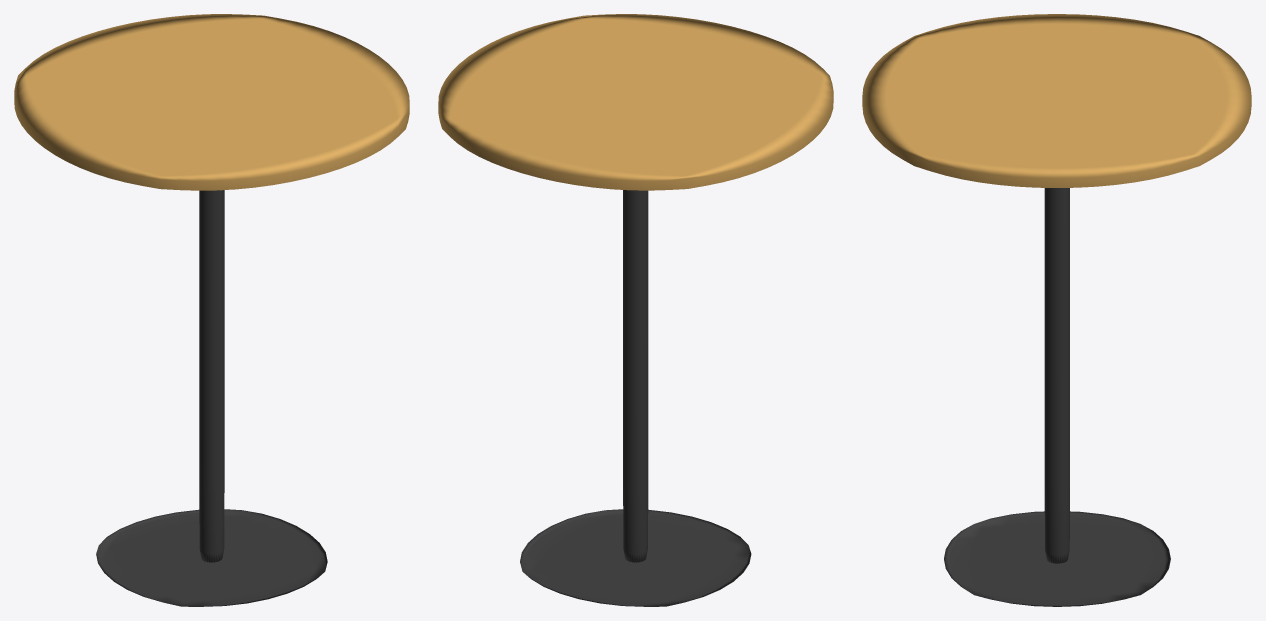
Rendered from Table.fbx.
3 renders of one model, left to right at view 1: azimuth 30°, elevation 25°; view 2: azimuth 150°, elevation 25°; view 3: azimuth 270°, elevation 25°, orthographic.
Visible parts, largest first — view 1: Cylinder; view 2: Cylinder; view 3: Cylinder.
Boxes of the visible parts, left/top/right/bottom form: Cylinder: left=14, top=14, right=409, bottom=606; Cylinder: left=438, top=14, right=833, bottom=606; Cylinder: left=862, top=14, right=1251, bottom=606.
Bounding box in the file's own units: 231 × 303 × 231.
